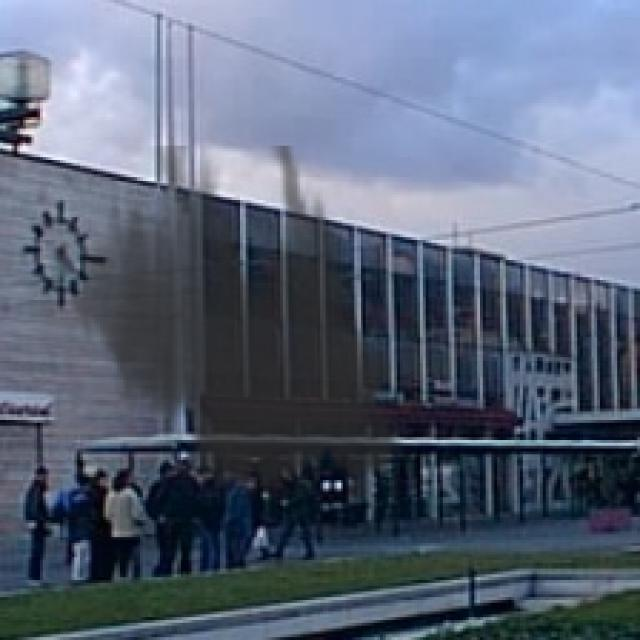Smoke: (62, 146, 418, 512)
